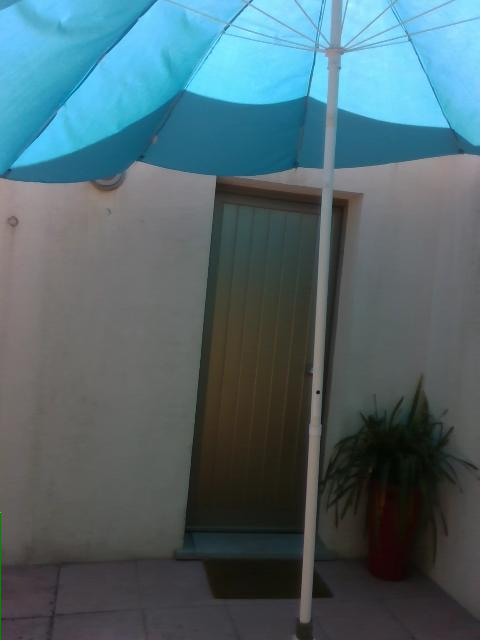door: (182, 175, 363, 550)
